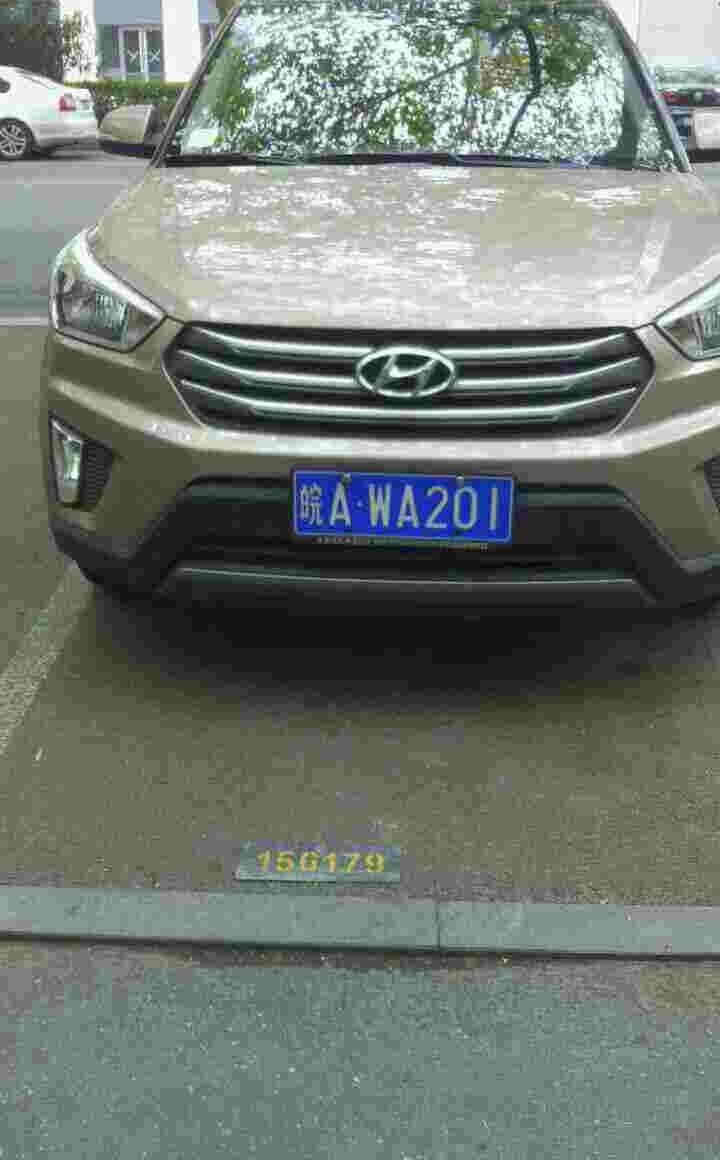license_plate: (296, 467, 520, 549)
